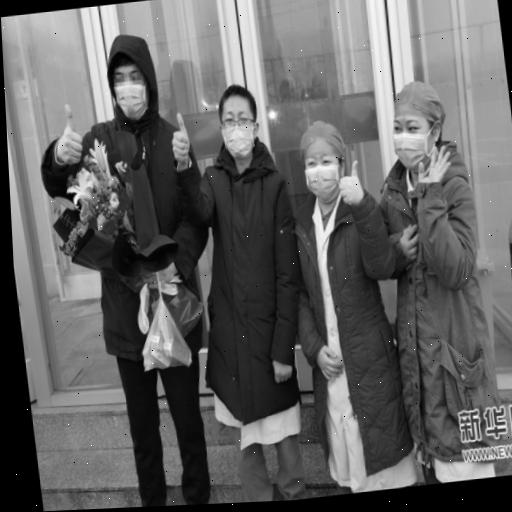mask: (383, 75, 453, 180), (98, 29, 159, 125), (293, 118, 355, 206), (213, 81, 267, 167)
